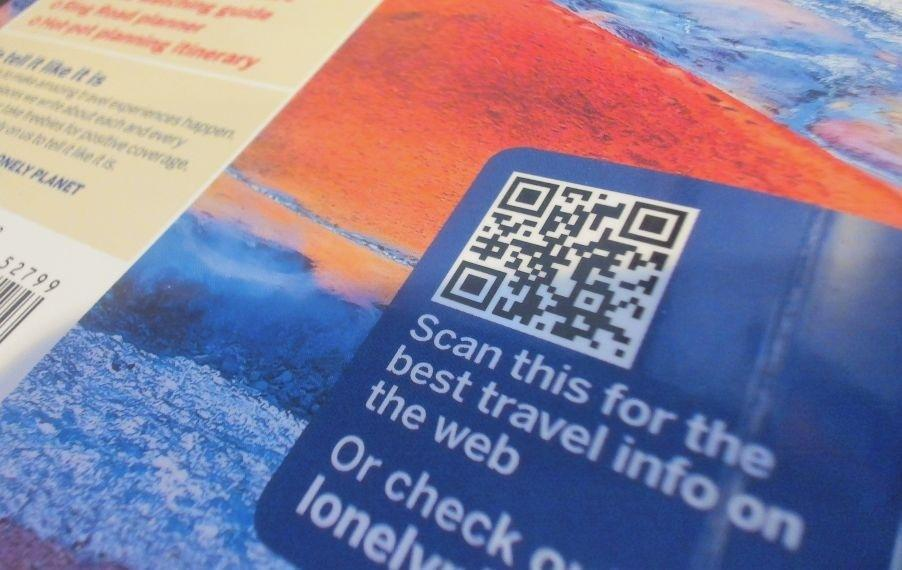Finder pattern: (436, 259, 509, 312), (615, 201, 686, 248), (495, 175, 557, 218)
